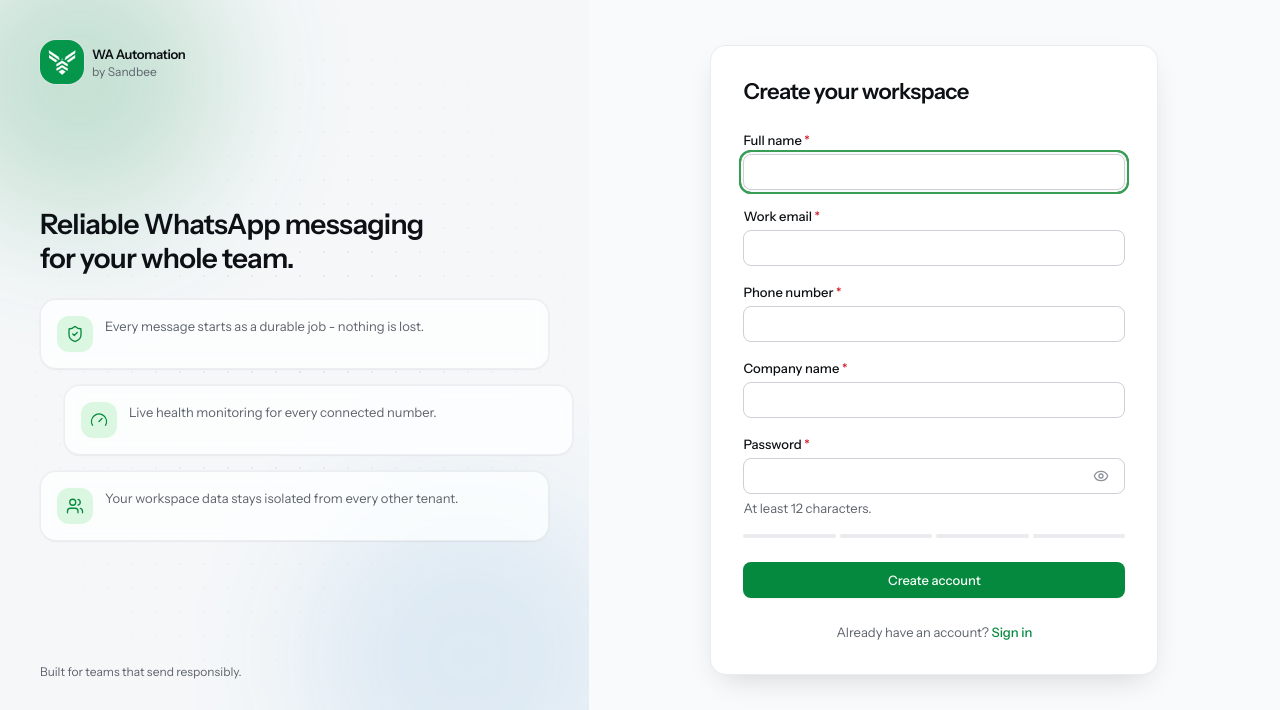
Test case: SignupForm › a server VALIDATION_ERROR maps to a visible message, never a blank form
Type "Ada Owner" into the field with test id "signup-full-name". click: (934, 172)
box: 743,154 -> 1125,190
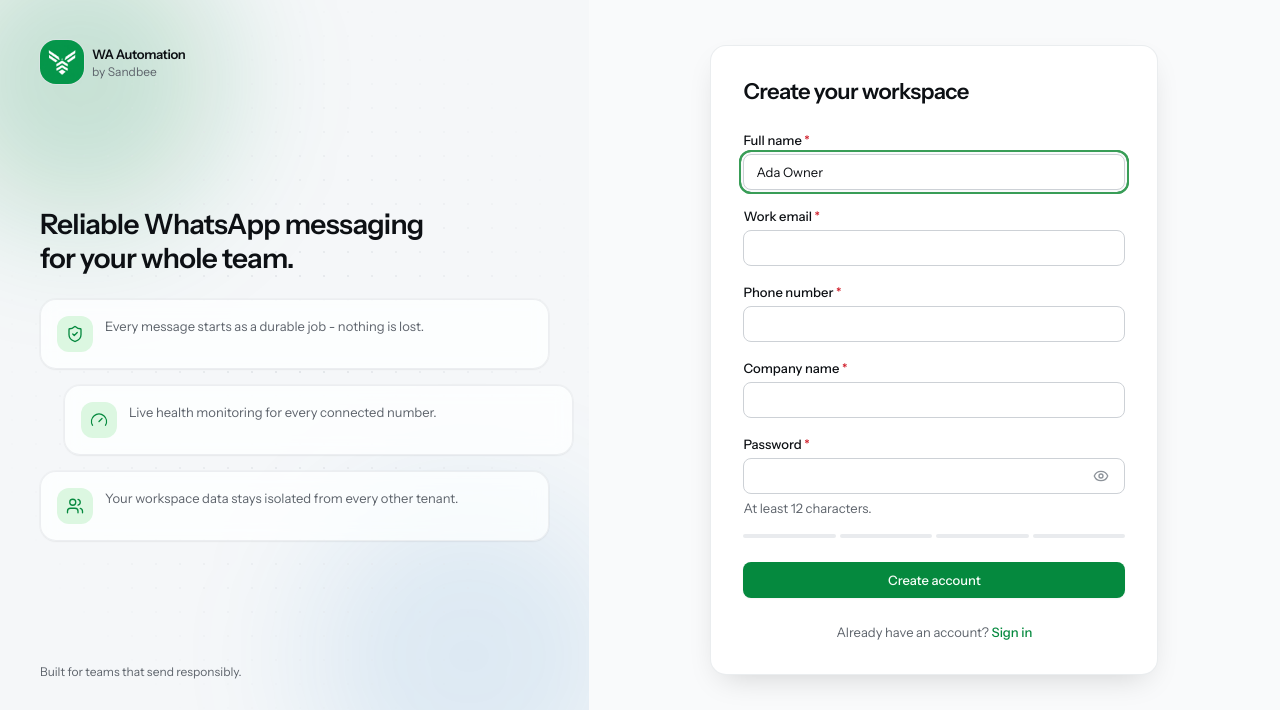
Type "ada@example.com" into the field with test id "signup-email". click: (934, 248)
box: 743,230 -> 1125,266
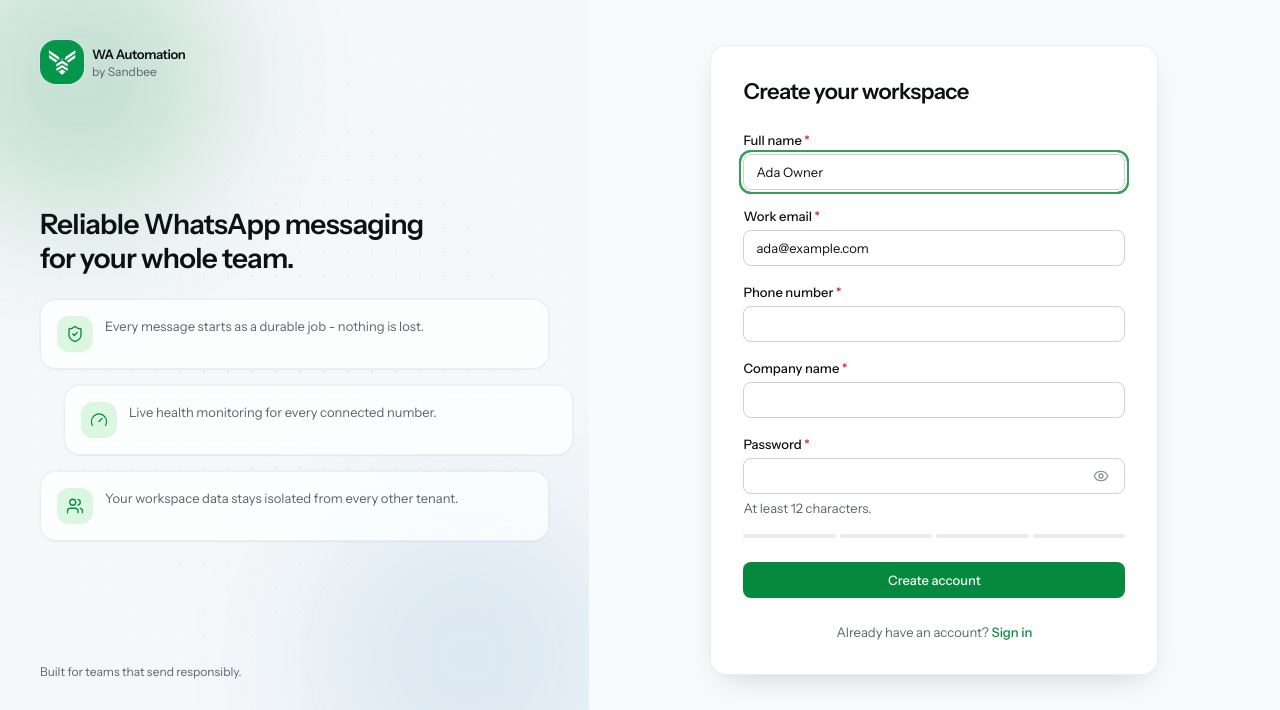
Type "+919876543210" into the field with test id "signup-phone". click: (934, 324)
box: 743,306 -> 1125,342
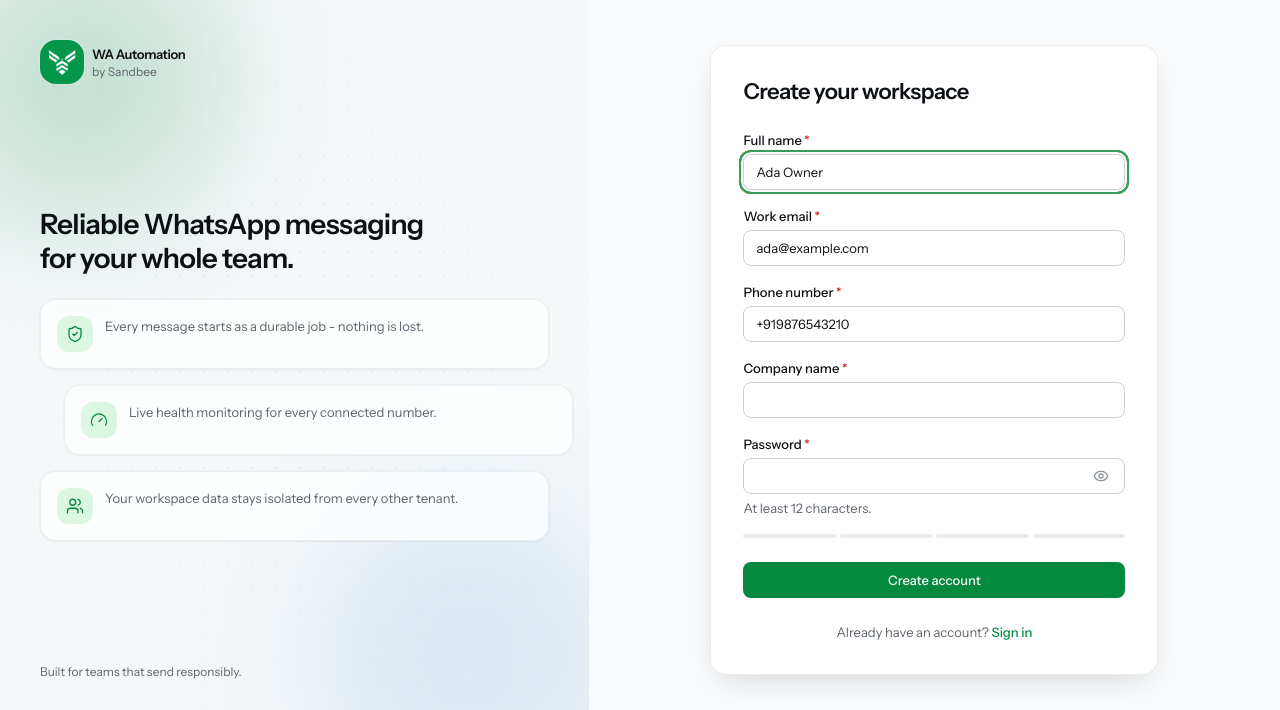
Type "Acme Textiles" into the field with test id "signup-company". click: (934, 400)
box: 743,382 -> 1125,418
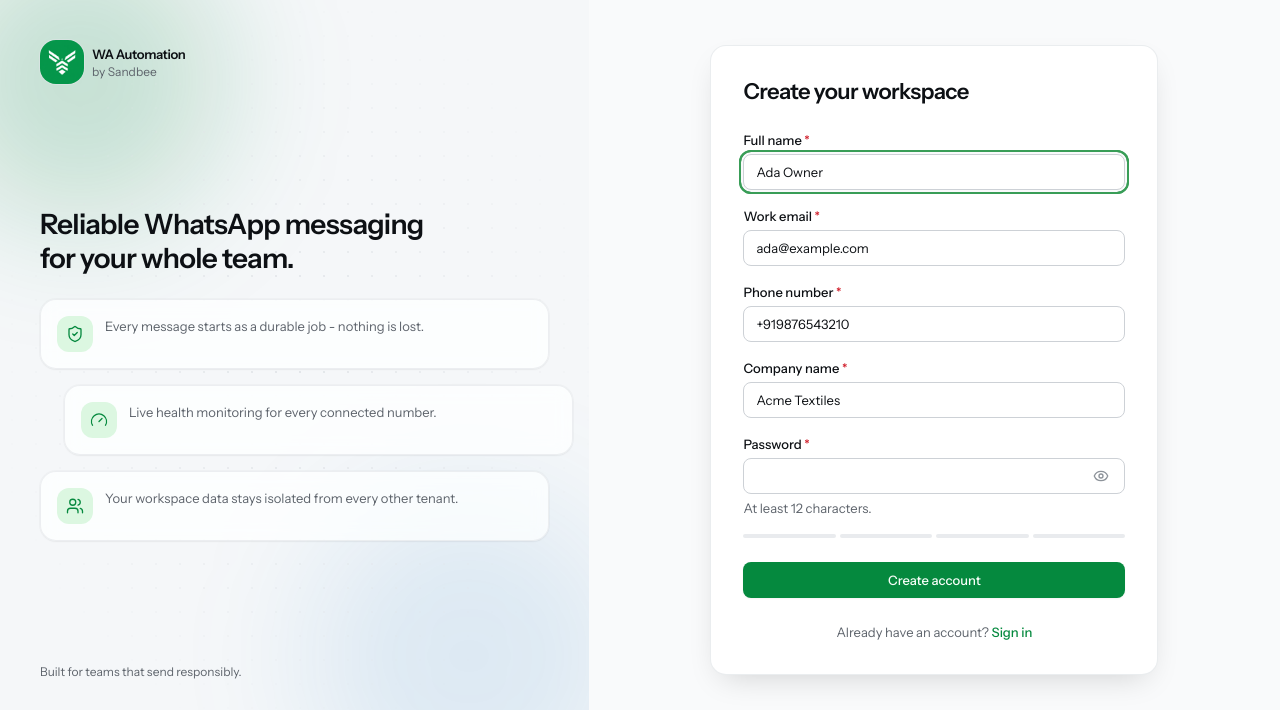
Type "correct horse battery staple" into the password field with test id "signup-password". click: (934, 476)
box: 743,458 -> 1125,494
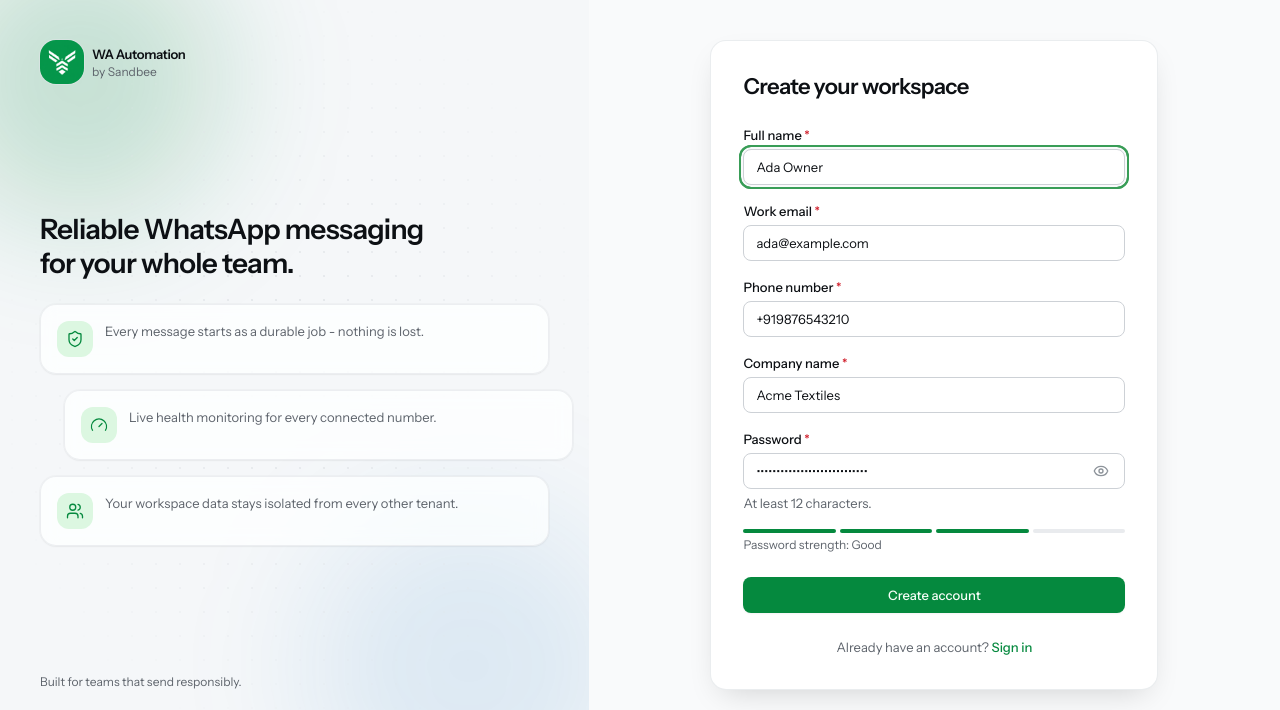
Click the button with test id "signup-submit". click: (934, 595)
box: 743,577 -> 1125,613
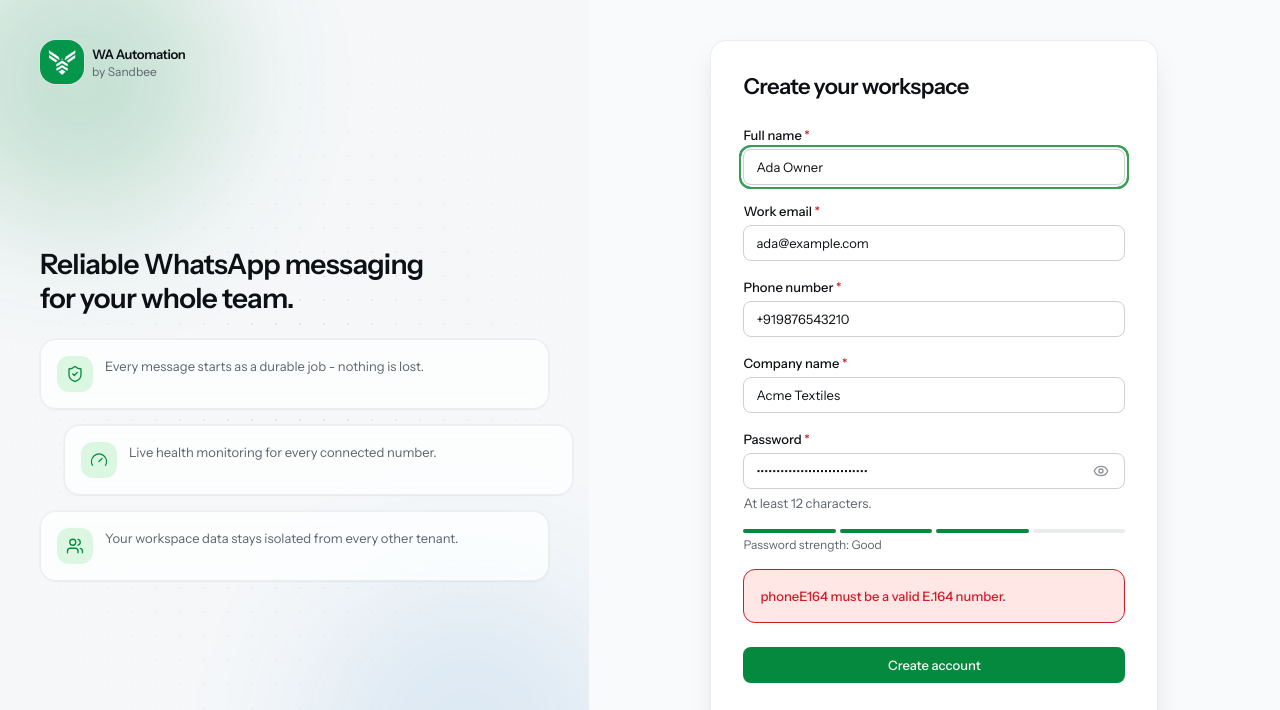
Expected: the button with test id "signup-submit" is shown, 743,647 -> 1125,683
Expected: the text "phoneE164 must be a valid E.164 number." is shown, 760,588 -> 1006,604
